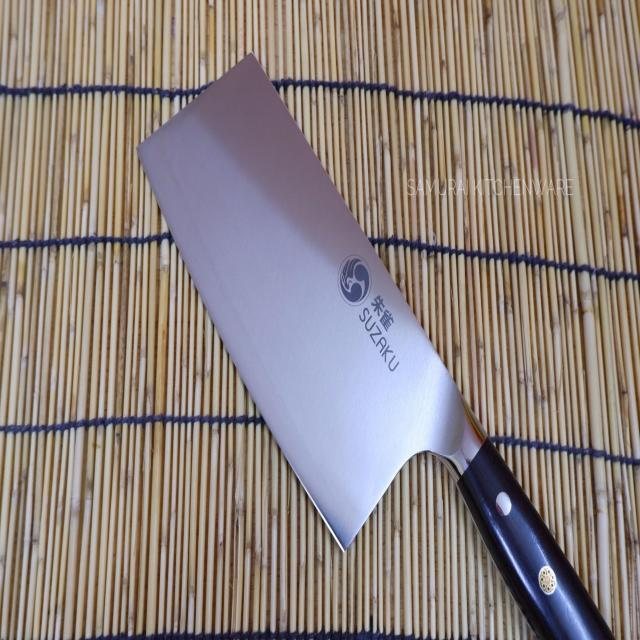cleaver: (140, 51, 598, 640)
